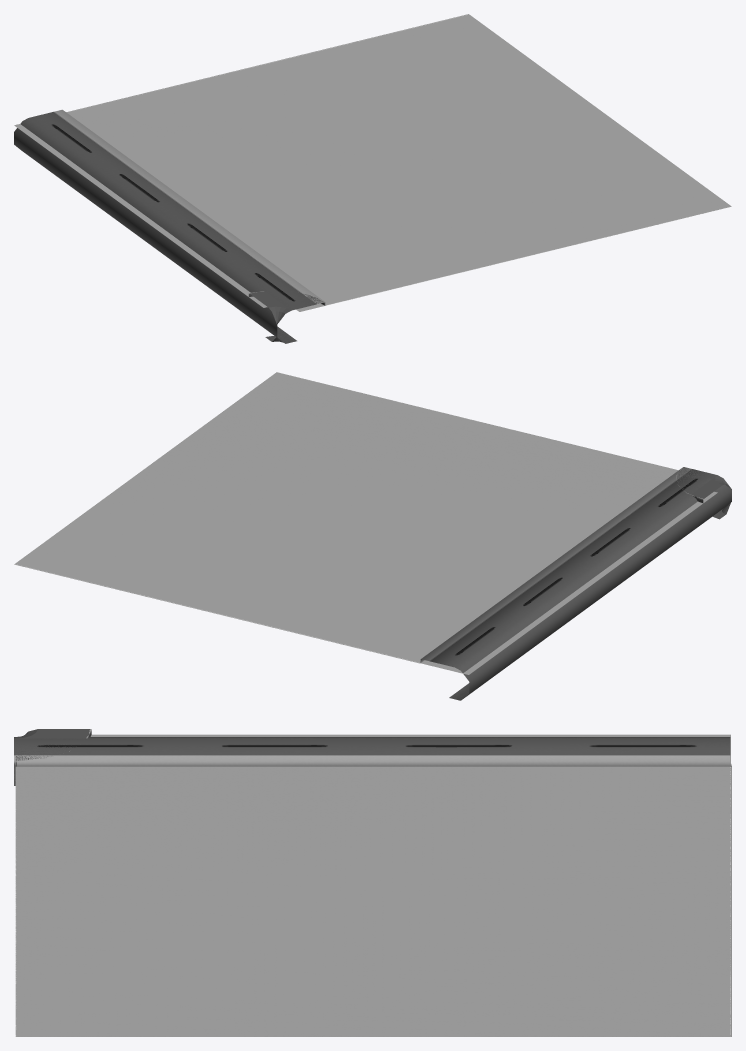
File: Sidewalk.fbx
3 renders of one model, top to bottom at view 1: azimuth 30°, elevation 25°; view 2: azimuth 150°, elevation 25°; view 3: azimuth 270°, elevation 25°, orthographic. The views are drawn at different scales.
Visible parts, largest first — view 1: Sidewalk_InnerCorner, Sidewalk_Straight; view 2: Sidewalk_Straight, Sidewalk_InnerCorner; view 3: Sidewalk_Straight, Sidewalk_InnerCorner.
Part boxes in pixels (bbox=[...]): Sidewalk_InnerCorner: bbox=[14, 14, 730, 342]; Sidewalk_Straight: bbox=[14, 14, 731, 343]; Sidewalk_Straight: bbox=[14, 372, 731, 700]; Sidewalk_InnerCorner: bbox=[14, 373, 730, 674]; Sidewalk_Straight: bbox=[14, 737, 731, 1036]; Sidewalk_InnerCorner: bbox=[15, 729, 730, 1036].
Size of the model in its own units: 40.01 by 2.68 by 40.14.
